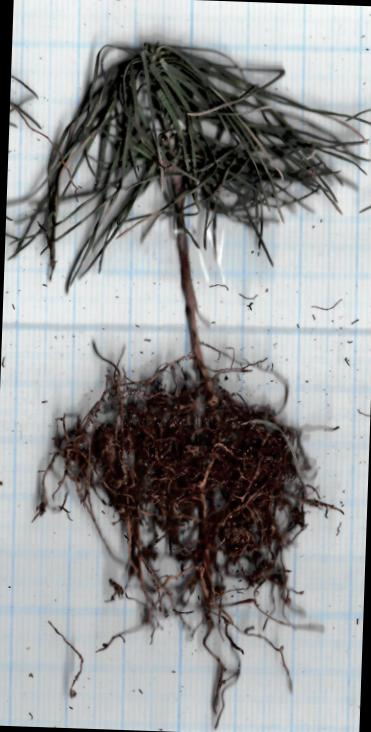flower: (5, 43, 370, 289)
root: (35, 343, 341, 726)
stem: (172, 175, 204, 370)
